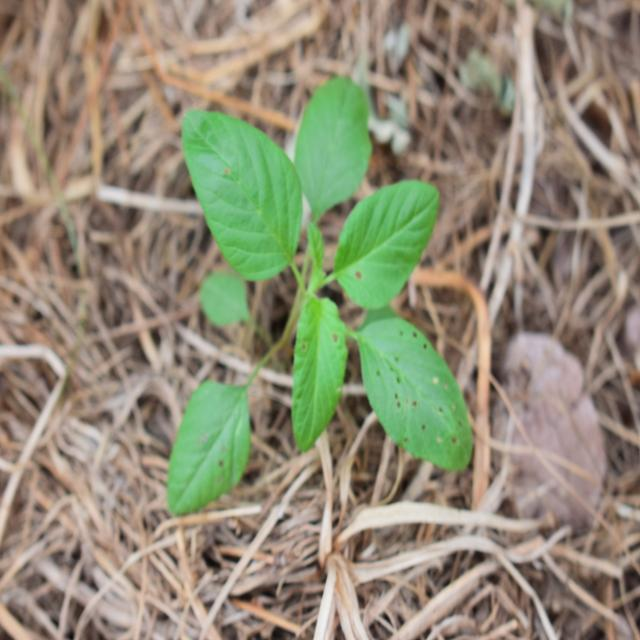pigweed: (160, 64, 453, 448)
